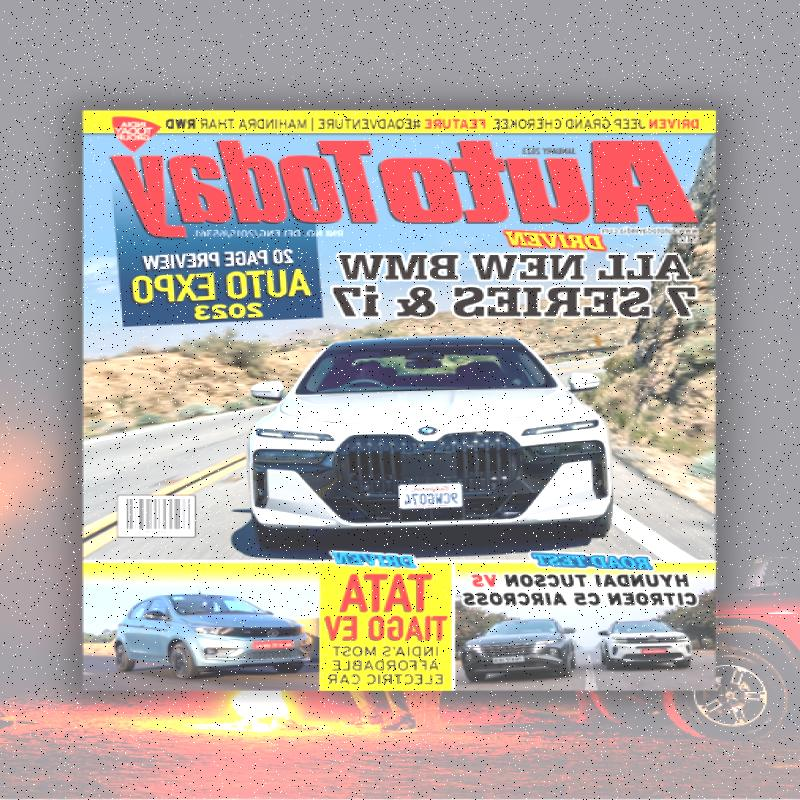car: (226, 306, 646, 531)
